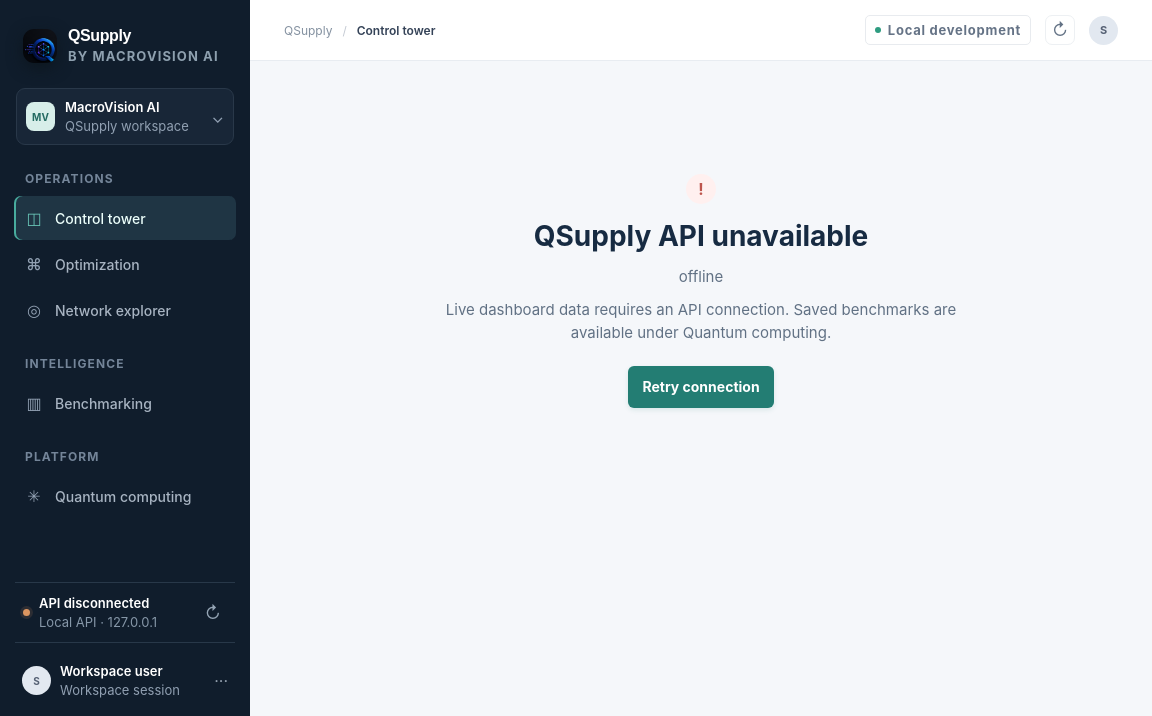
QSupply dashboard interactions › opens the bundled study during an API outage without mounting live solver controls
expect the heading "QSupply API unavailable" is shown: met, box [534, 220, 868, 254]
Click the button "✳ Quantum computing": click(125, 496) [14, 474, 236, 518]
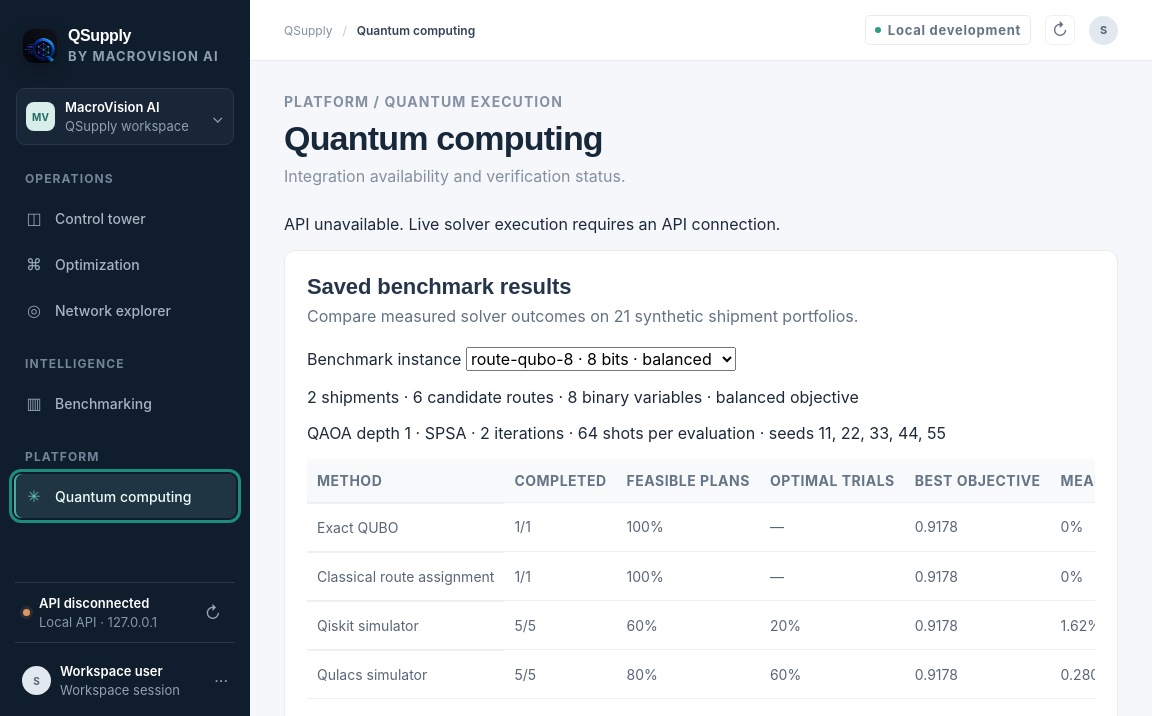
Select "size-control · 19 bits · balanced" in the dropdown labelled "Benchmark instance": (601, 359) [466, 347, 736, 371]
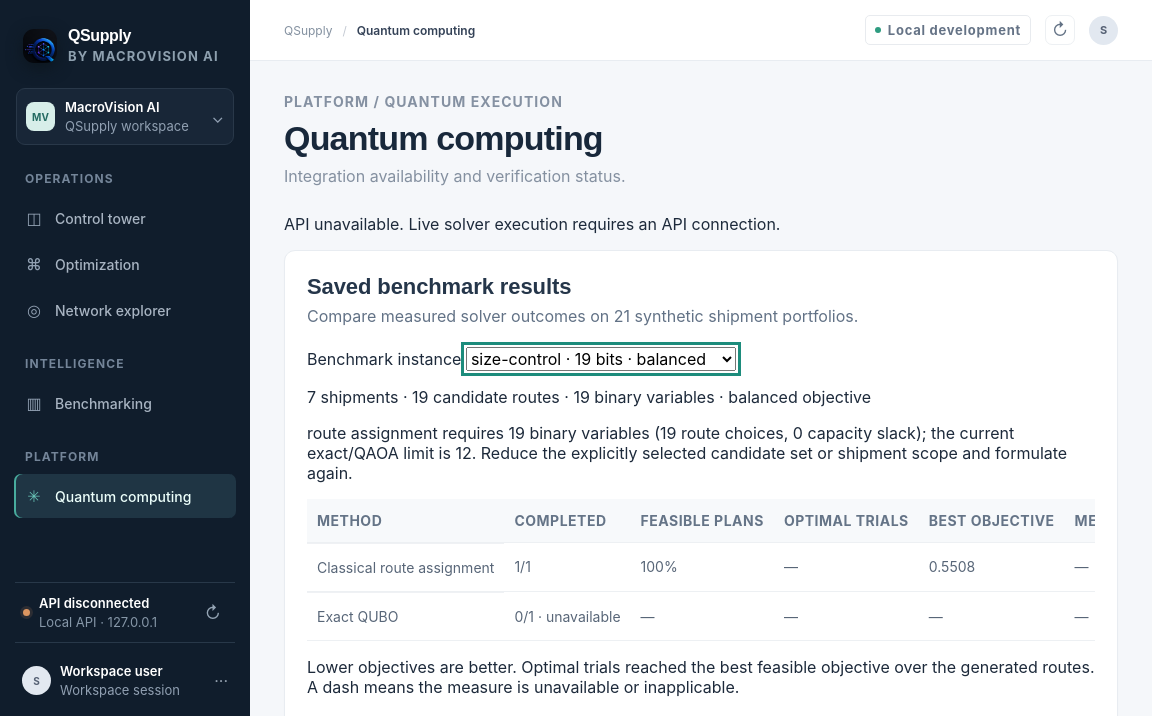
expect the text "route assignment requires 19 binary variables" is shown: met, box [307, 423, 1067, 483]
